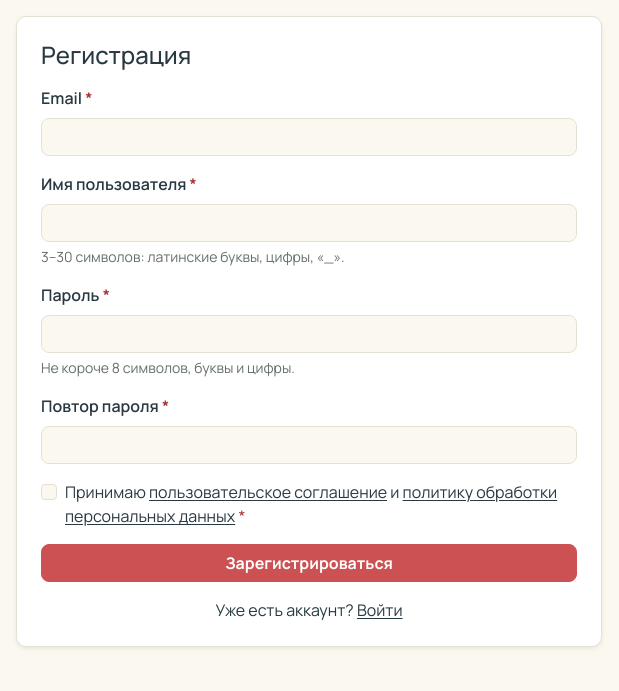
Test: форма регистрации › ошибка сервера показывается под своим полем
Type "anna@test.ru" into the field labelled "Email *" at (309, 137), box [41,118,577,156]
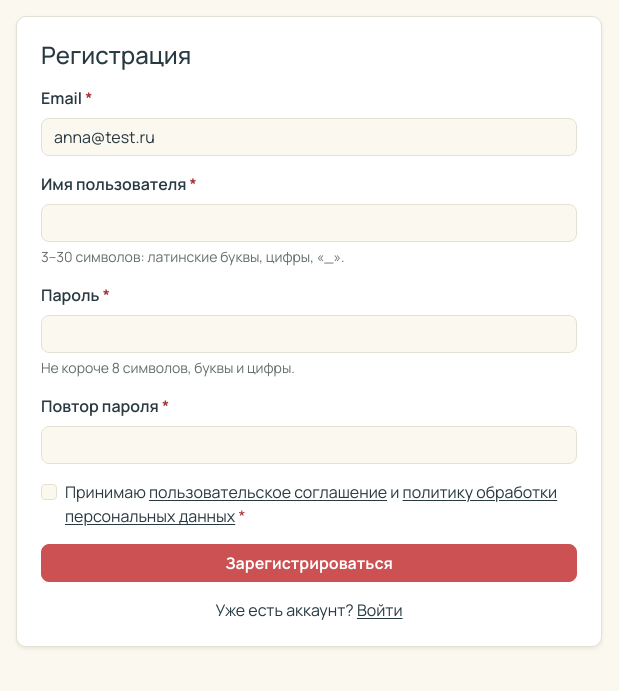
Type "anna_1" into the field labelled "Имя пользователя *" at (309, 223), box [41,204,577,242]
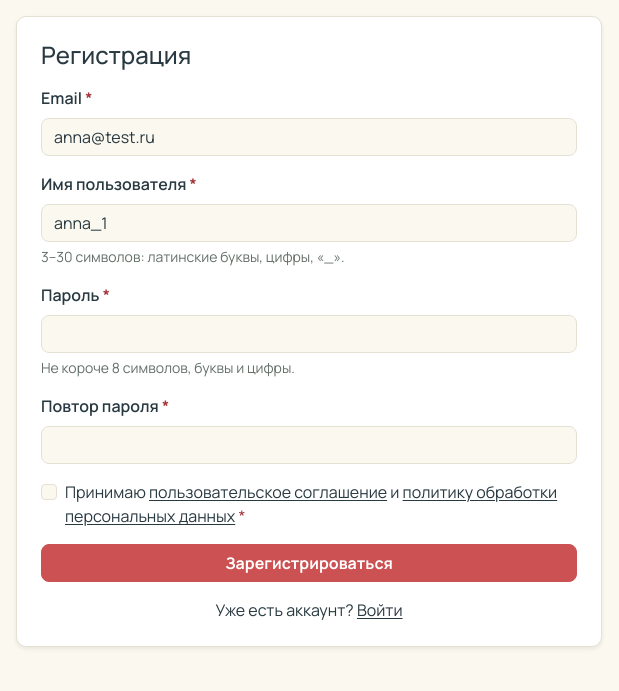
Type "secret123" into the password field labelled "Пароль *" at (309, 334), box [41,315,577,353]
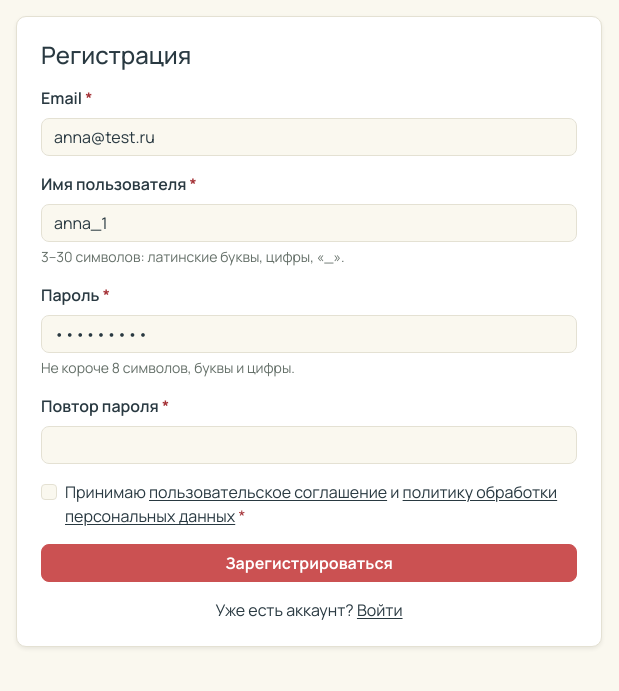
Type "secret123" into the password field labelled "Повтор пароля *" at (309, 445), box [41,426,577,464]
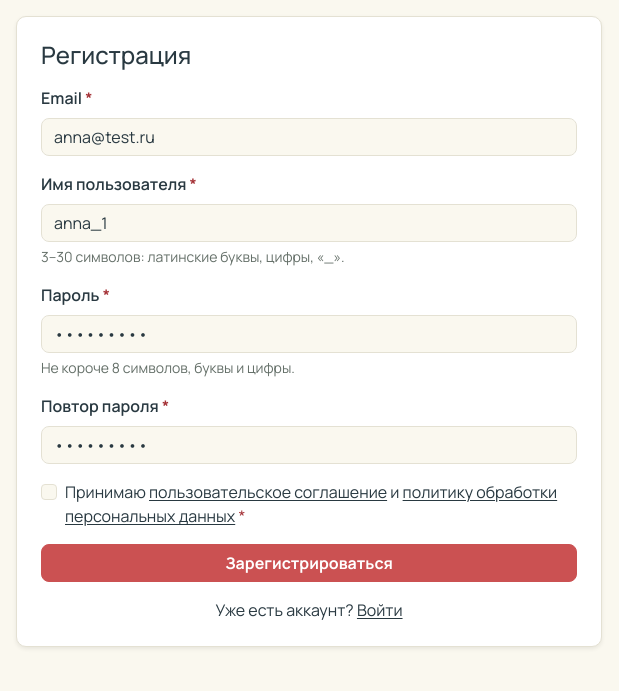
Click the checkbox at (49, 492), box [41,484,57,500]
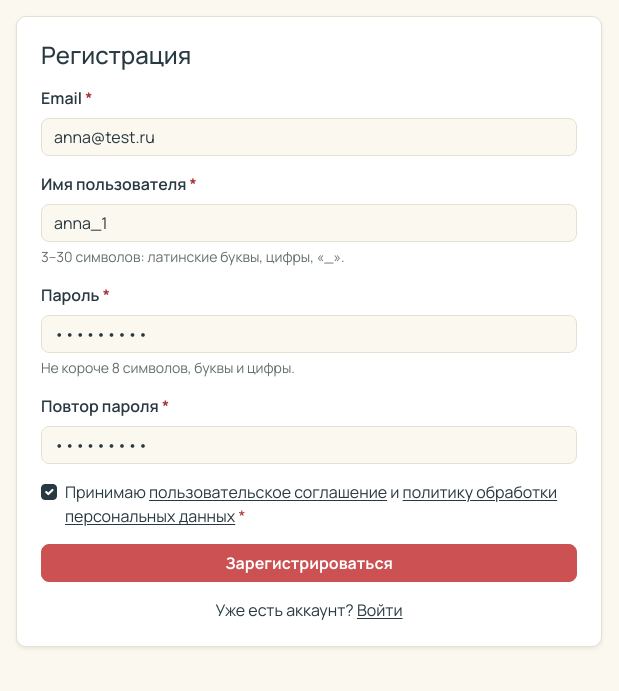
Click the button "Зарегистрироваться" at (309, 563), box [41,544,577,582]
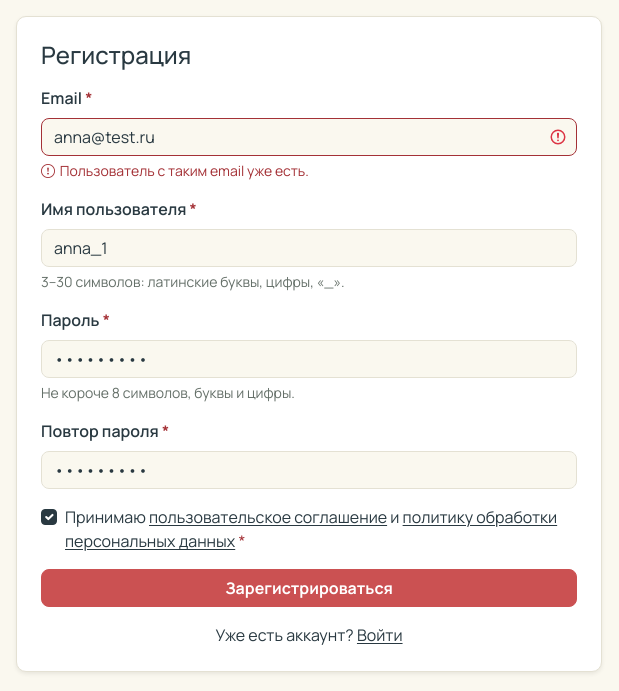
Check: the text "Пользователь с таким email уже есть." is shown, box [41,160,309,181]
